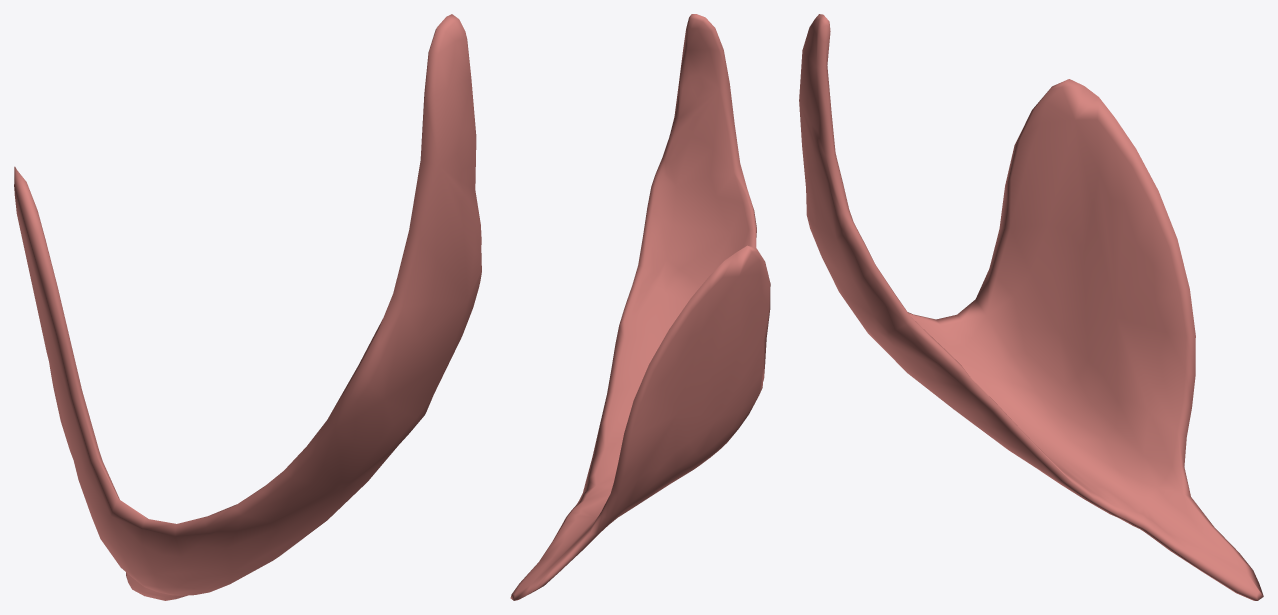
3 views of the same model, side by side, from view 1: azimuth 30°, elevation 25°; view 2: azimuth 150°, elevation 25°; view 3: azimuth 270°, elevation 25° (orthographic). The views are drawn at different scales.
Visible parts, largest first — view 1: ZA_8ac201dce8146be9; view 2: ZA_8ac201dce8146be9; view 3: ZA_8ac201dce8146be9.
Part boxes in pixels (bbox=[...]): ZA_8ac201dce8146be9: bbox=[14, 14, 481, 600]; ZA_8ac201dce8146be9: bbox=[510, 14, 770, 600]; ZA_8ac201dce8146be9: bbox=[799, 14, 1263, 600].
Size of the model in its own units: 0.00929 by 0.0221 by 0.0161.
